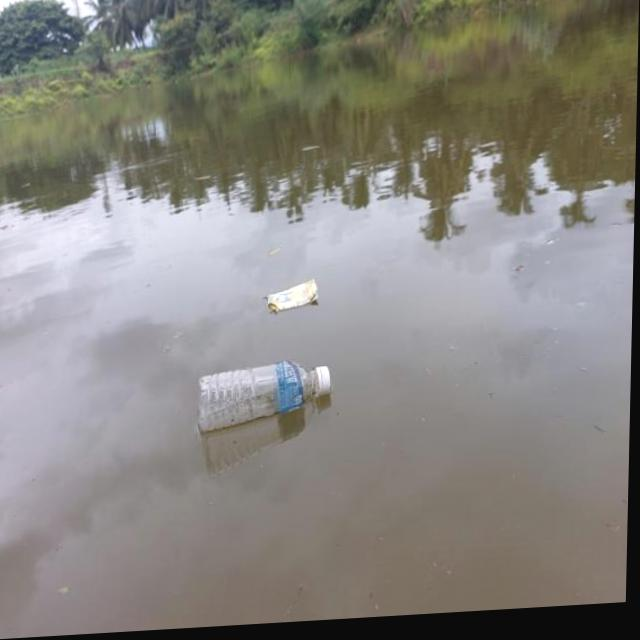paper: (259, 270, 320, 336)
waterbottle: (181, 349, 343, 460)
